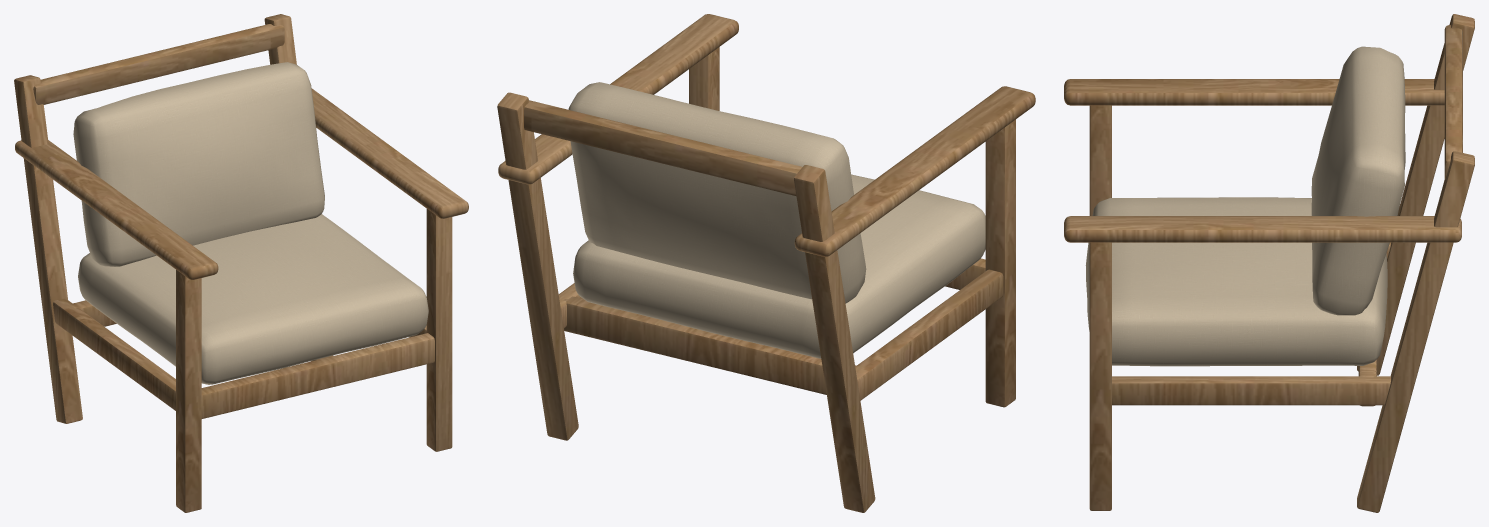
Rendered from butaca_madera_roble.glb.
3 views of the same model, side by side, from view 1: azimuth 30°, elevation 25°; view 2: azimuth 150°, elevation 25°; view 3: azimuth 270°, elevation 25° (orthographic). The views are drawn at different scales.
Parts seen in each view (by area): view 1: butaca_madera_roble; view 2: butaca_madera_roble; view 3: butaca_madera_roble.
Part boxes in pixels (box(x1,y1,x2,y2)): butaca_madera_roble: box(14, 14, 468, 512); butaca_madera_roble: box(497, 14, 1035, 512); butaca_madera_roble: box(1064, 14, 1474, 512).
Bounding box in the file's own units: 0.695 × 0.7459 × 0.7845.
Materials: 2 (2 with a texture image).
